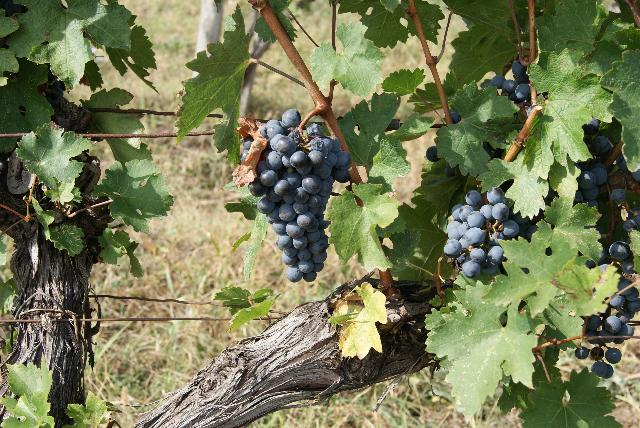grapes: (249, 109, 352, 282)
